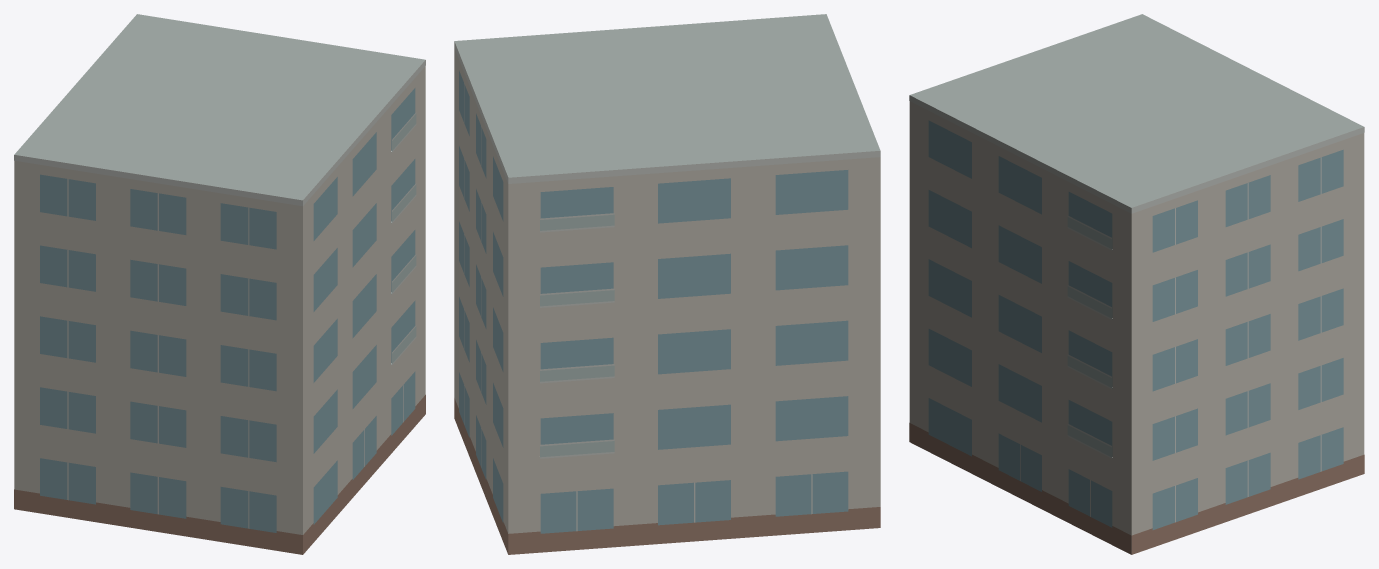
File: survey-upis-32971446.glb
3 views of the same model, side by side, from view 1: azimuth 30°, elevation 25°; view 2: azimuth 150°, elevation 25°; view 3: azimuth 270°, elevation 25° (orthographic). The views are drawn at different scales.
Visible parts, largest first — view 1: survey-upis-32971446.tmp; view 2: survey-upis-32971446.tmp; view 3: survey-upis-32971446.tmp.
Boxes of the visible parts, x1=… form: survey-upis-32971446.tmp: x1=14, y1=14, x2=425, y2=554; survey-upis-32971446.tmp: x1=454, y1=14, x2=880, y2=554; survey-upis-32971446.tmp: x1=909, y1=14, x2=1364, y2=554.
Bounding box in the file's own units: 17.39 × 14.5 × 17.24.
